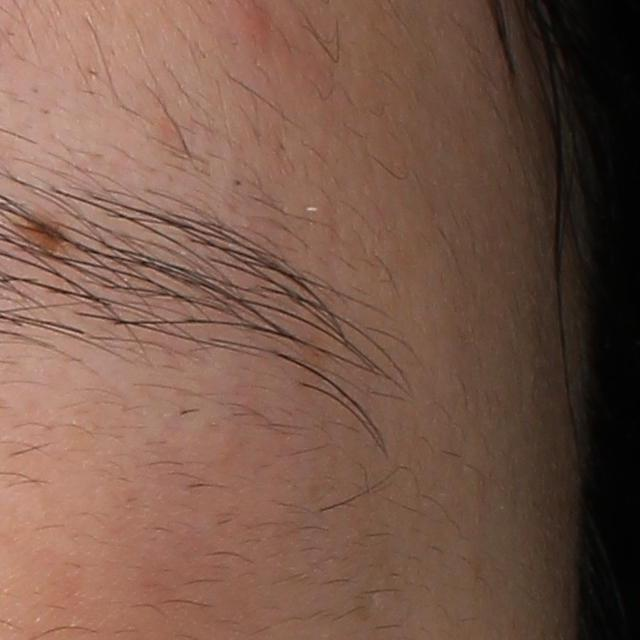nevus: (30, 213, 61, 250)
